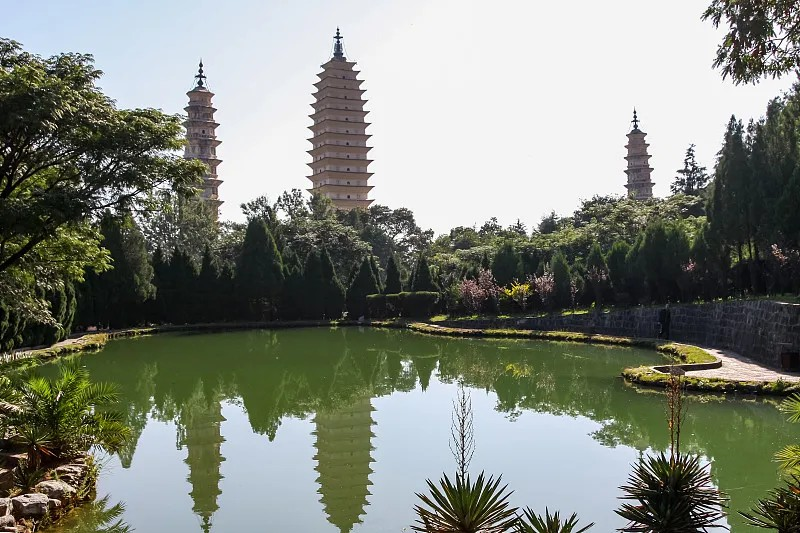ThreePagoda: (306, 26, 376, 207)
